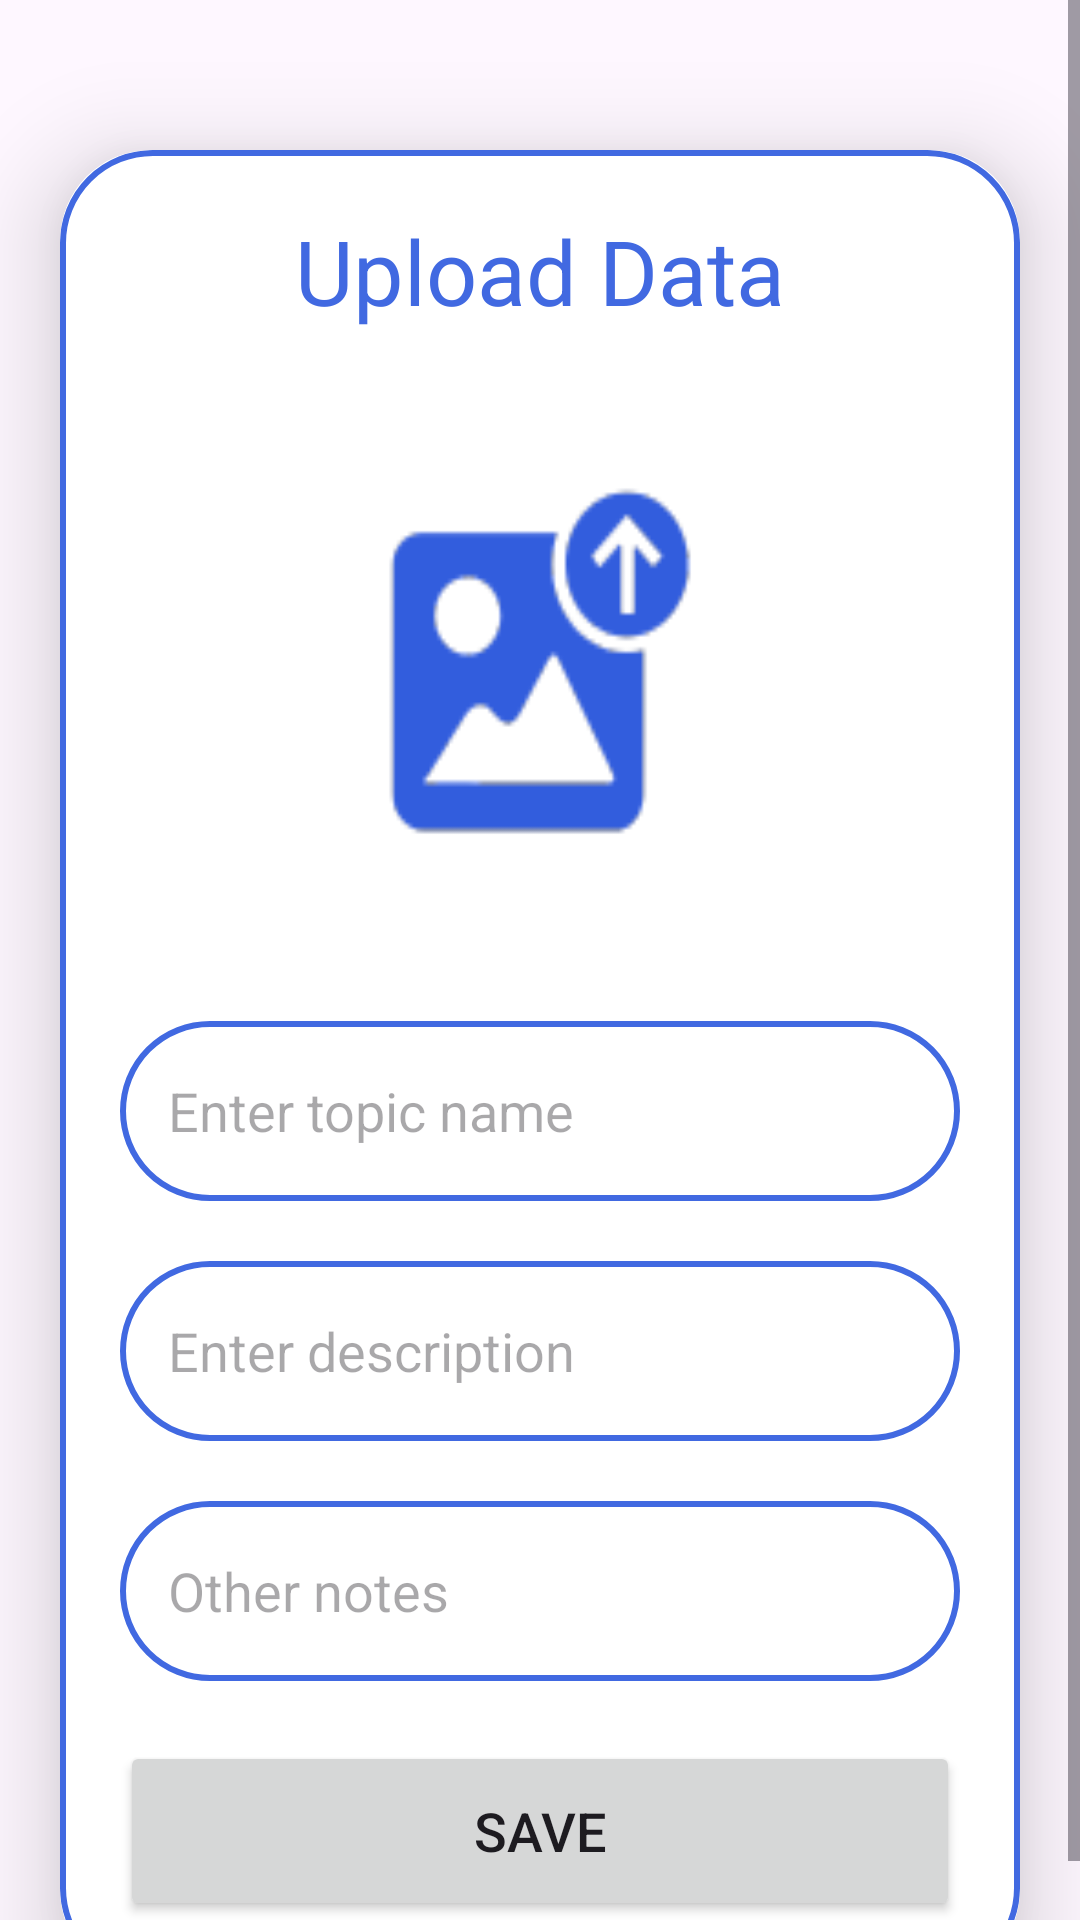

Icons on this 1080px×1920px Android screen, each with its box as (x1, y1, x2, y2):
uploading: (390, 489, 691, 834)
